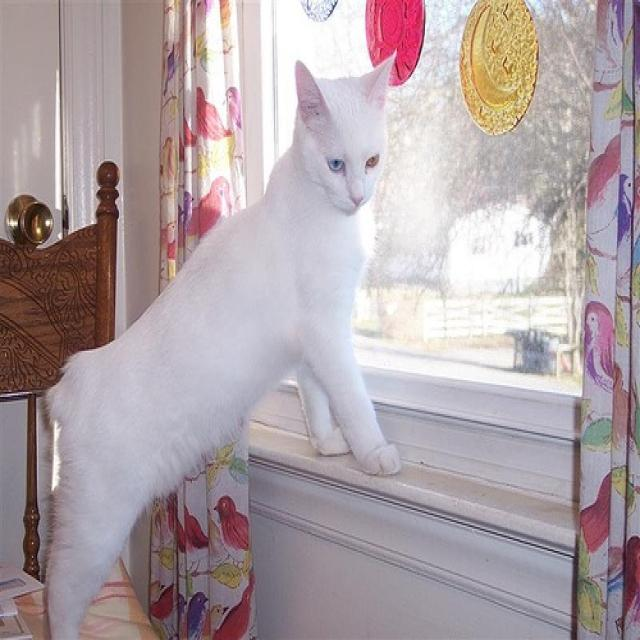cat: (41, 53, 401, 637)
chair: (0, 160, 157, 638)
